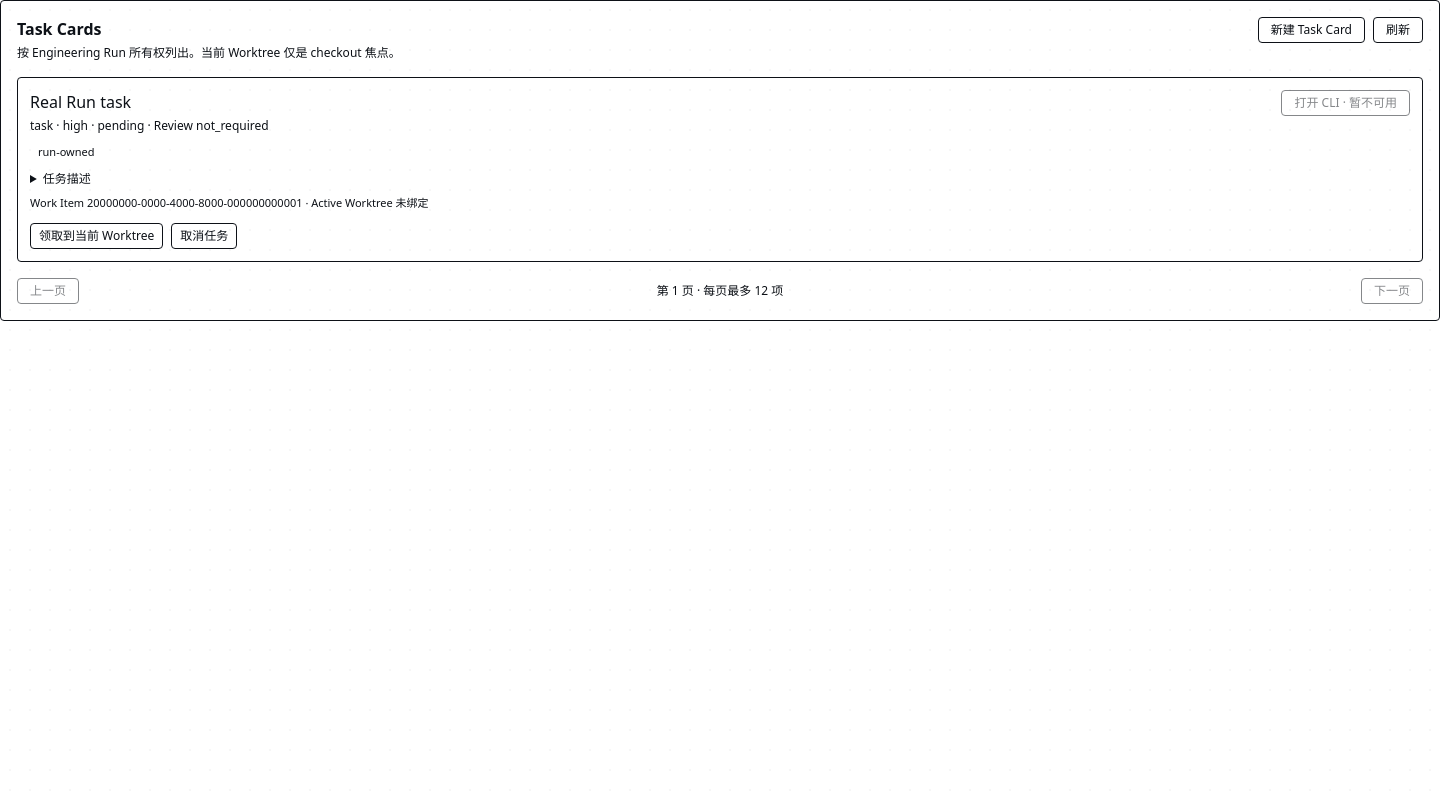
Test: RunTaskCardsPanel › requires confirmation before deleting a pending recovery record
Click the button "新建 Task Card". click: click(1311, 30)
box: [1258,17,1365,43]
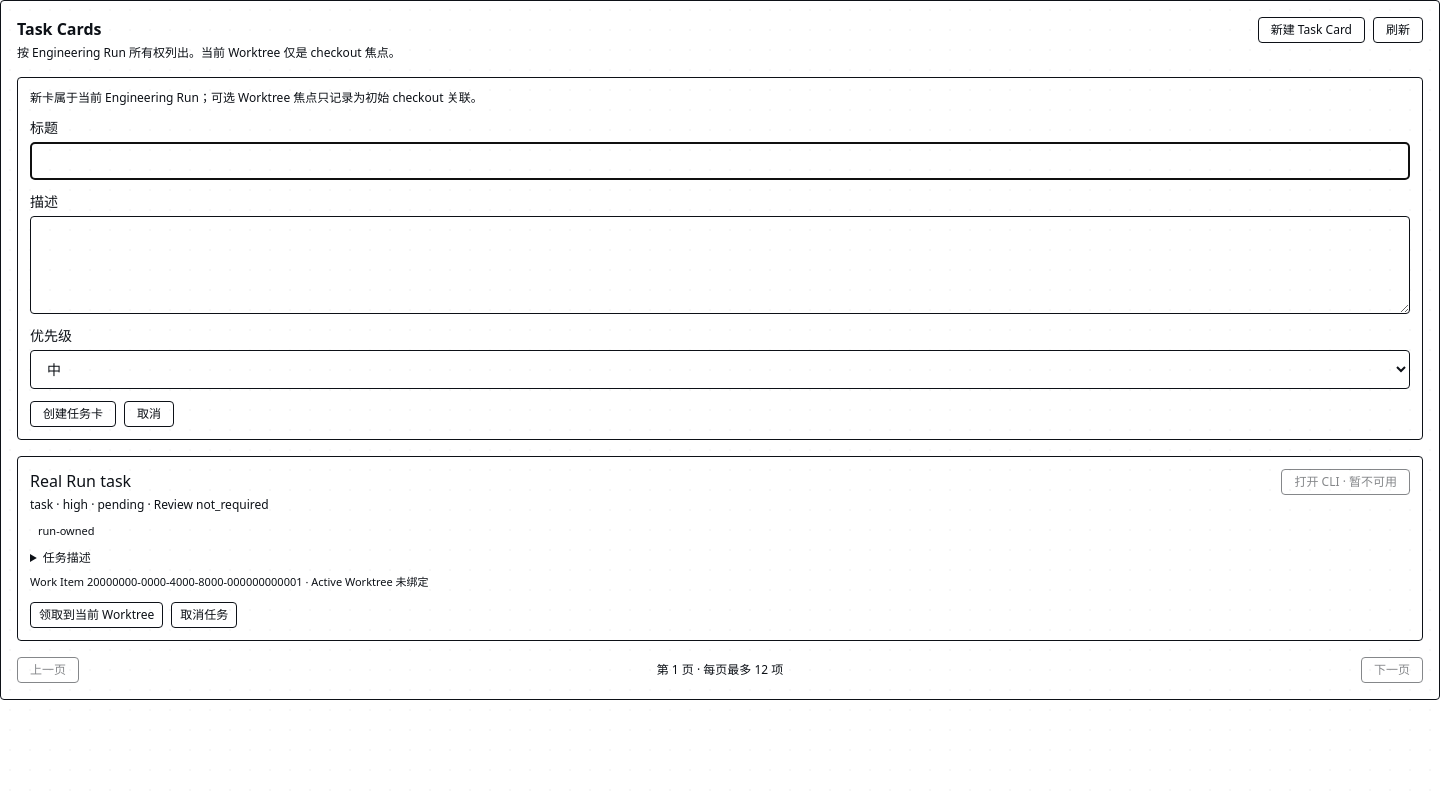
Type "Reconcile before clearing" into the field labelled "标题". click: (720, 161)
box: [30,142,1410,180]
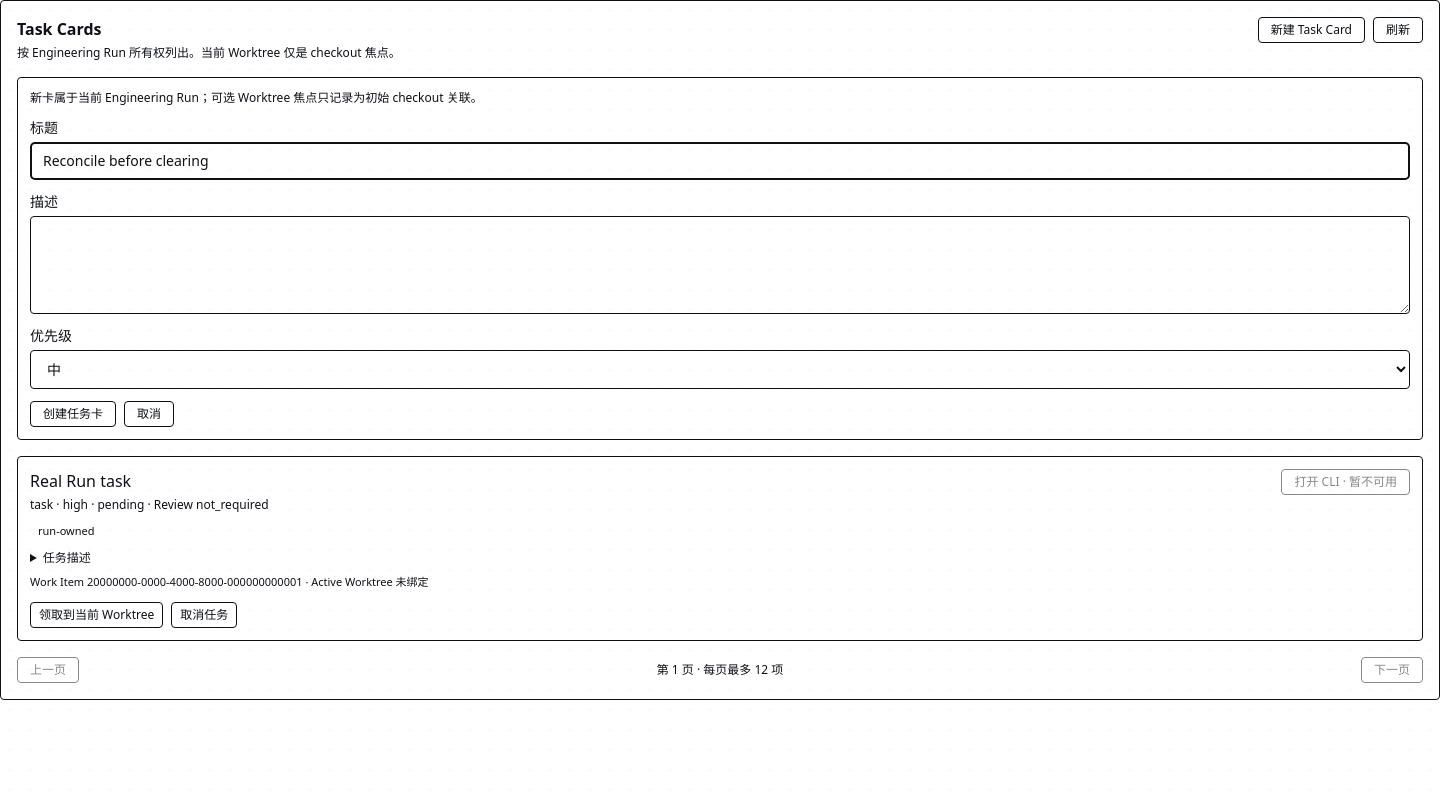
Click the button "创建任务卡". click: click(73, 414)
box: [30,401,116,427]
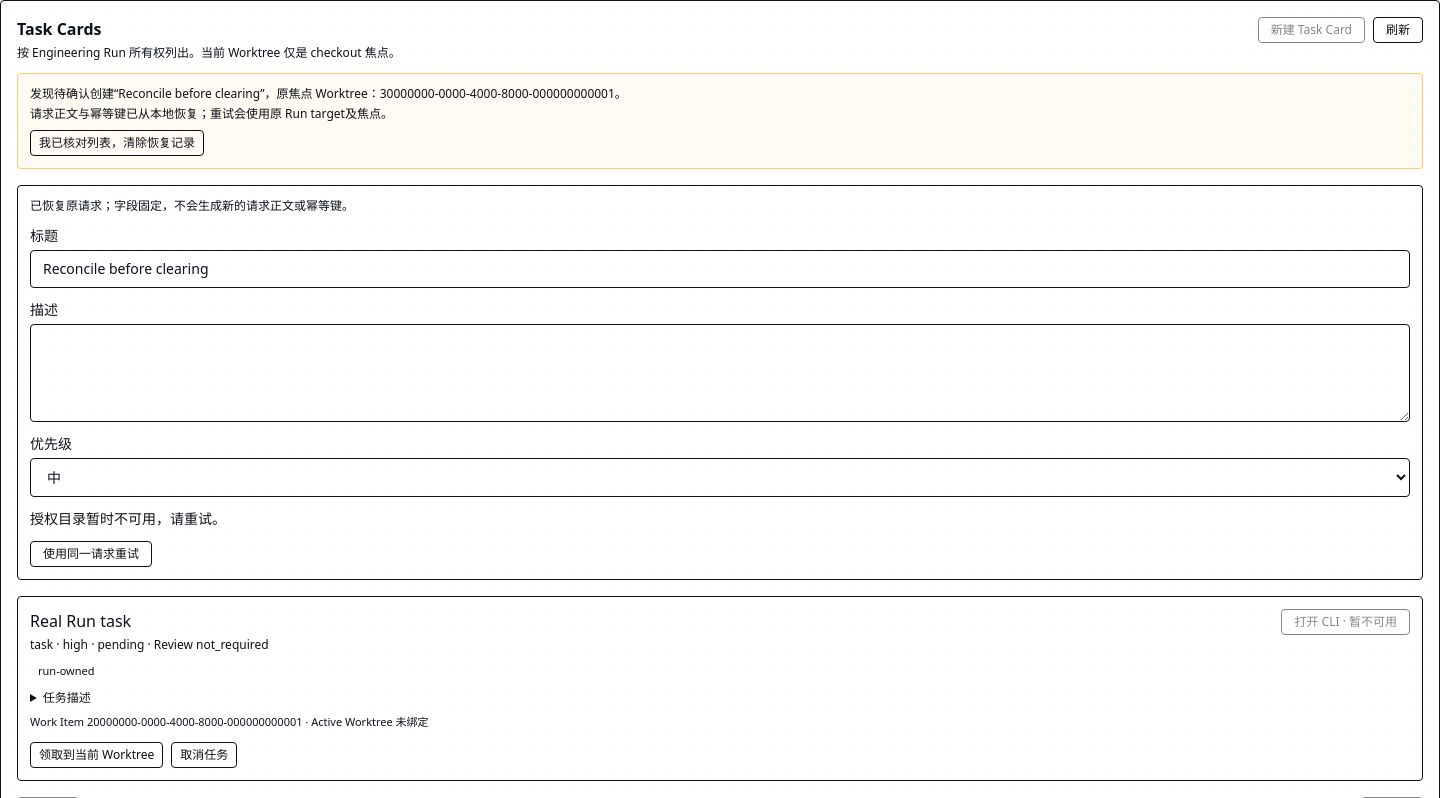
Check: the text "发现待确认创建“Reconcile before clearing”" is shown, box [30,85,627,102]
Click the button "我已核对列表，清除恢复记录". click: click(117, 143)
box: [30,130,204,156]
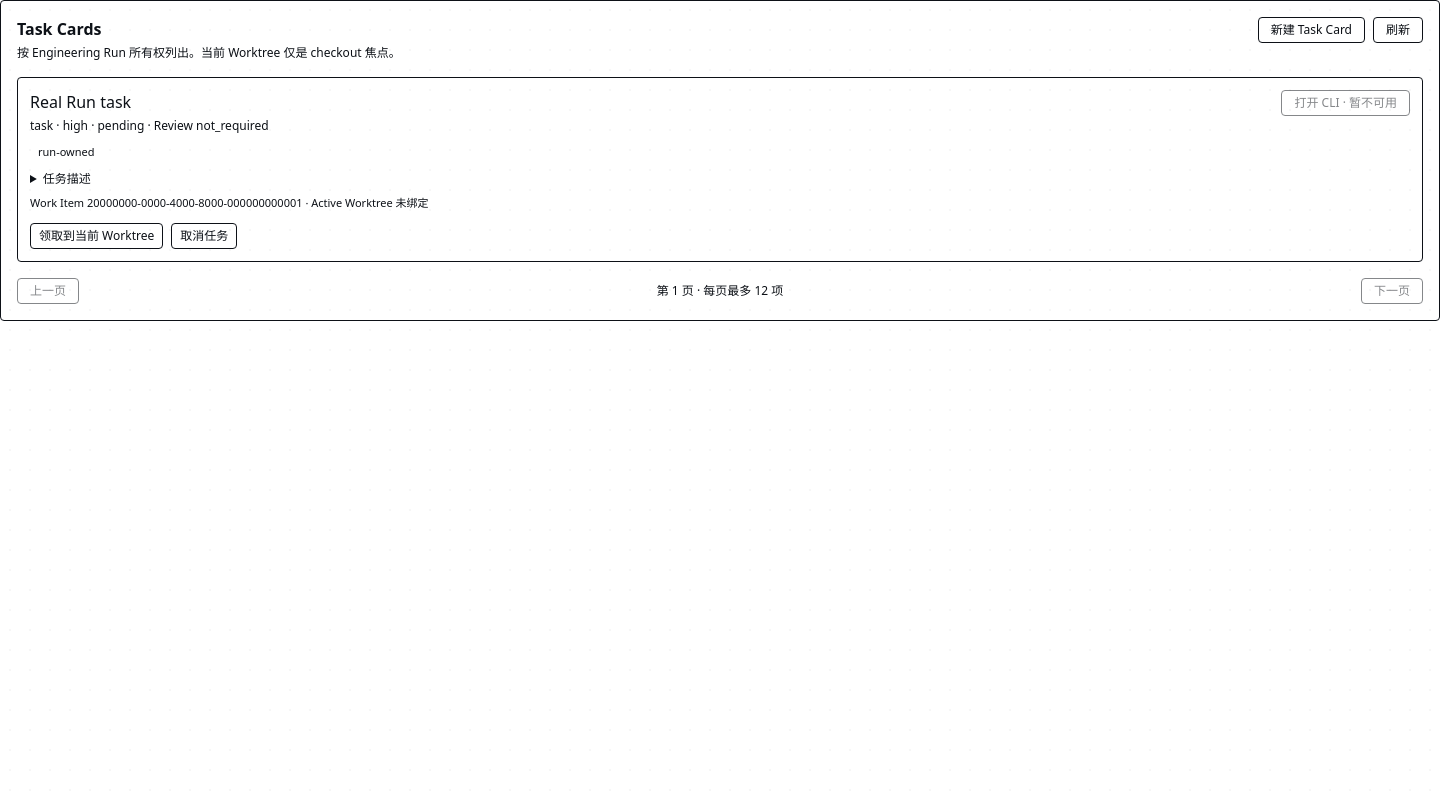
Check: the text "发现待确认创建“Reconcile before clearing”" is gone
